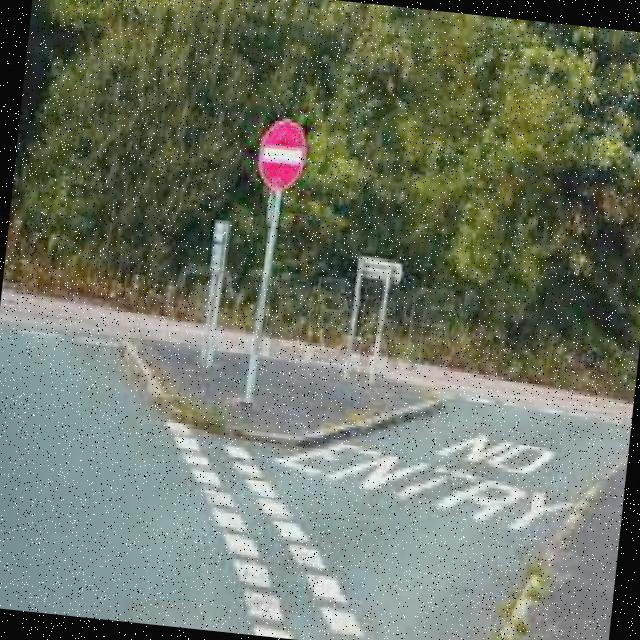Zakaz wjazdu: (253, 112, 310, 194)
